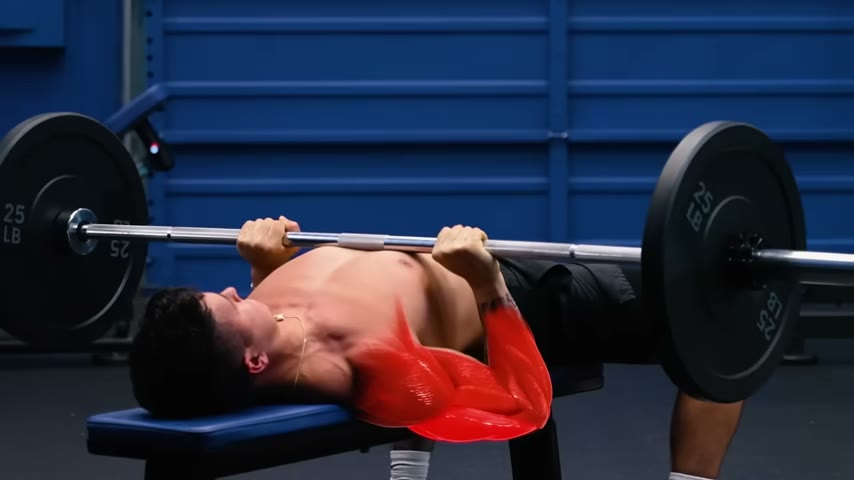barbell_plate_side: (0, 47, 118, 421)
